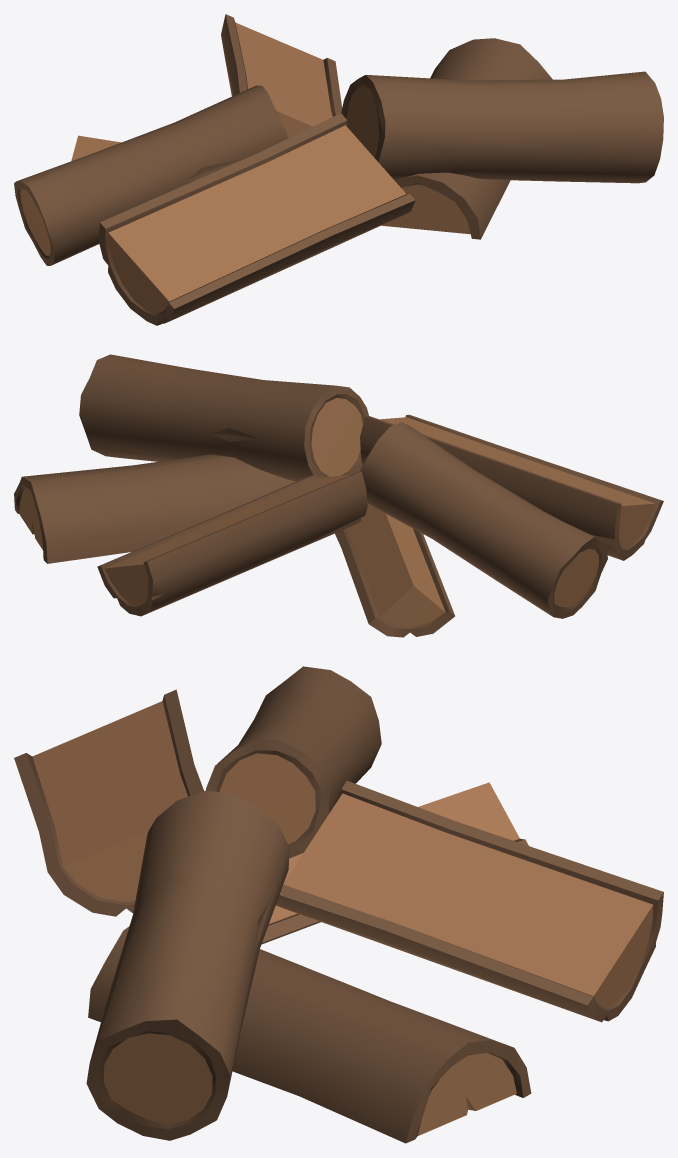
The model's file is Fireplace_Logs.fbx.
The picture shows the model from 3 angles, top to bottom: view 1: azimuth 30°, elevation 25°; view 2: azimuth 150°, elevation 25°; view 3: azimuth 270°, elevation 25°; orthographic projection. The views are drawn at different scales.
Parts seen in each view (by area): view 1: Fireplace_Logs; view 2: Fireplace_Logs; view 3: Fireplace_Logs.
Boxes of the visible parts, x1,y1,x2,y2 form: Fireplace_Logs: (14,14,663,325); Fireplace_Logs: (14,354,663,637); Fireplace_Logs: (14,666,663,1143).
Size of the model in its own units: 55.92 by 13.6 by 41.67.
